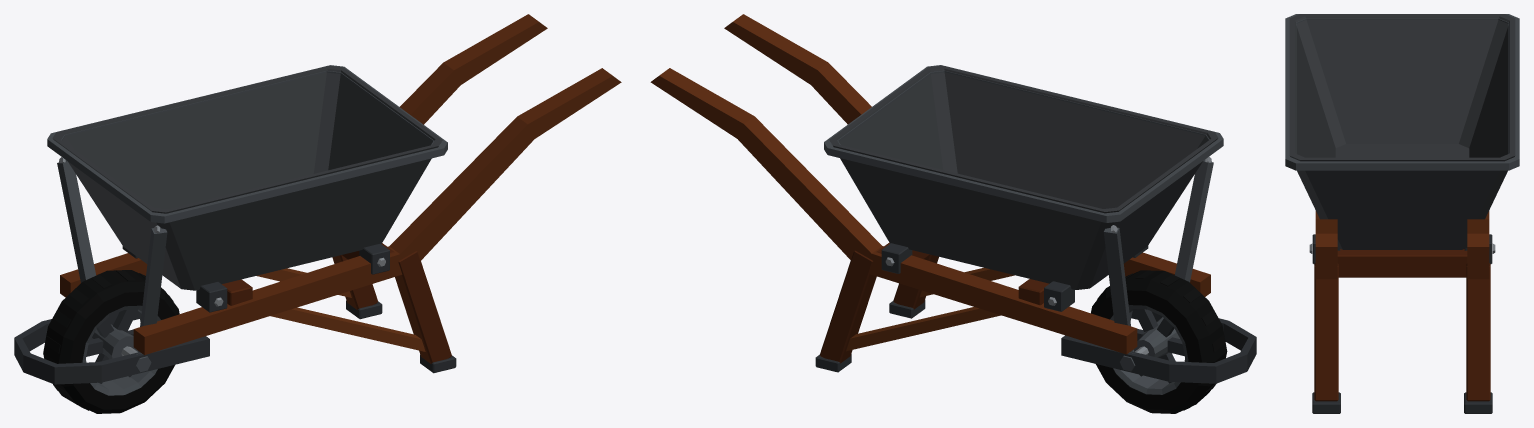
The model's file is Wheelbarrow.obj.
3 views of the same model, side by side, from view 1: azimuth 30°, elevation 25°; view 2: azimuth 150°, elevation 25°; view 3: azimuth 270°, elevation 25° (orthographic). The views are drawn at different scales.
Visible parts, largest first — view 1: Wheelbarrow.Static, Wheelbarrow.Wheel; view 2: Wheelbarrow.Static, Wheelbarrow.Wheel; view 3: Wheelbarrow.Static.
Part boxes in pixels (x1,y1,x2,y2): Wheelbarrow.Static: (14,14,621,384); Wheelbarrow.Wheel: (43,270,179,413); Wheelbarrow.Static: (650,14,1256,383); Wheelbarrow.Wheel: (1091,270,1227,413); Wheelbarrow.Static: (1285,14,1519,413).
Size of the model in its own units: 2.22 by 0.964 by 0.786.
